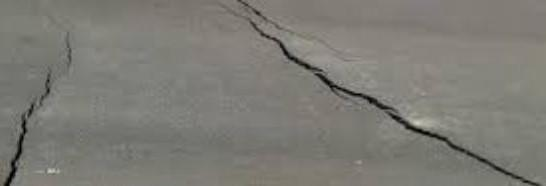crack: (220, 0, 546, 186), (0, 27, 75, 186)
